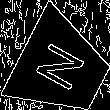N_SE: (31, 39, 92, 98)
